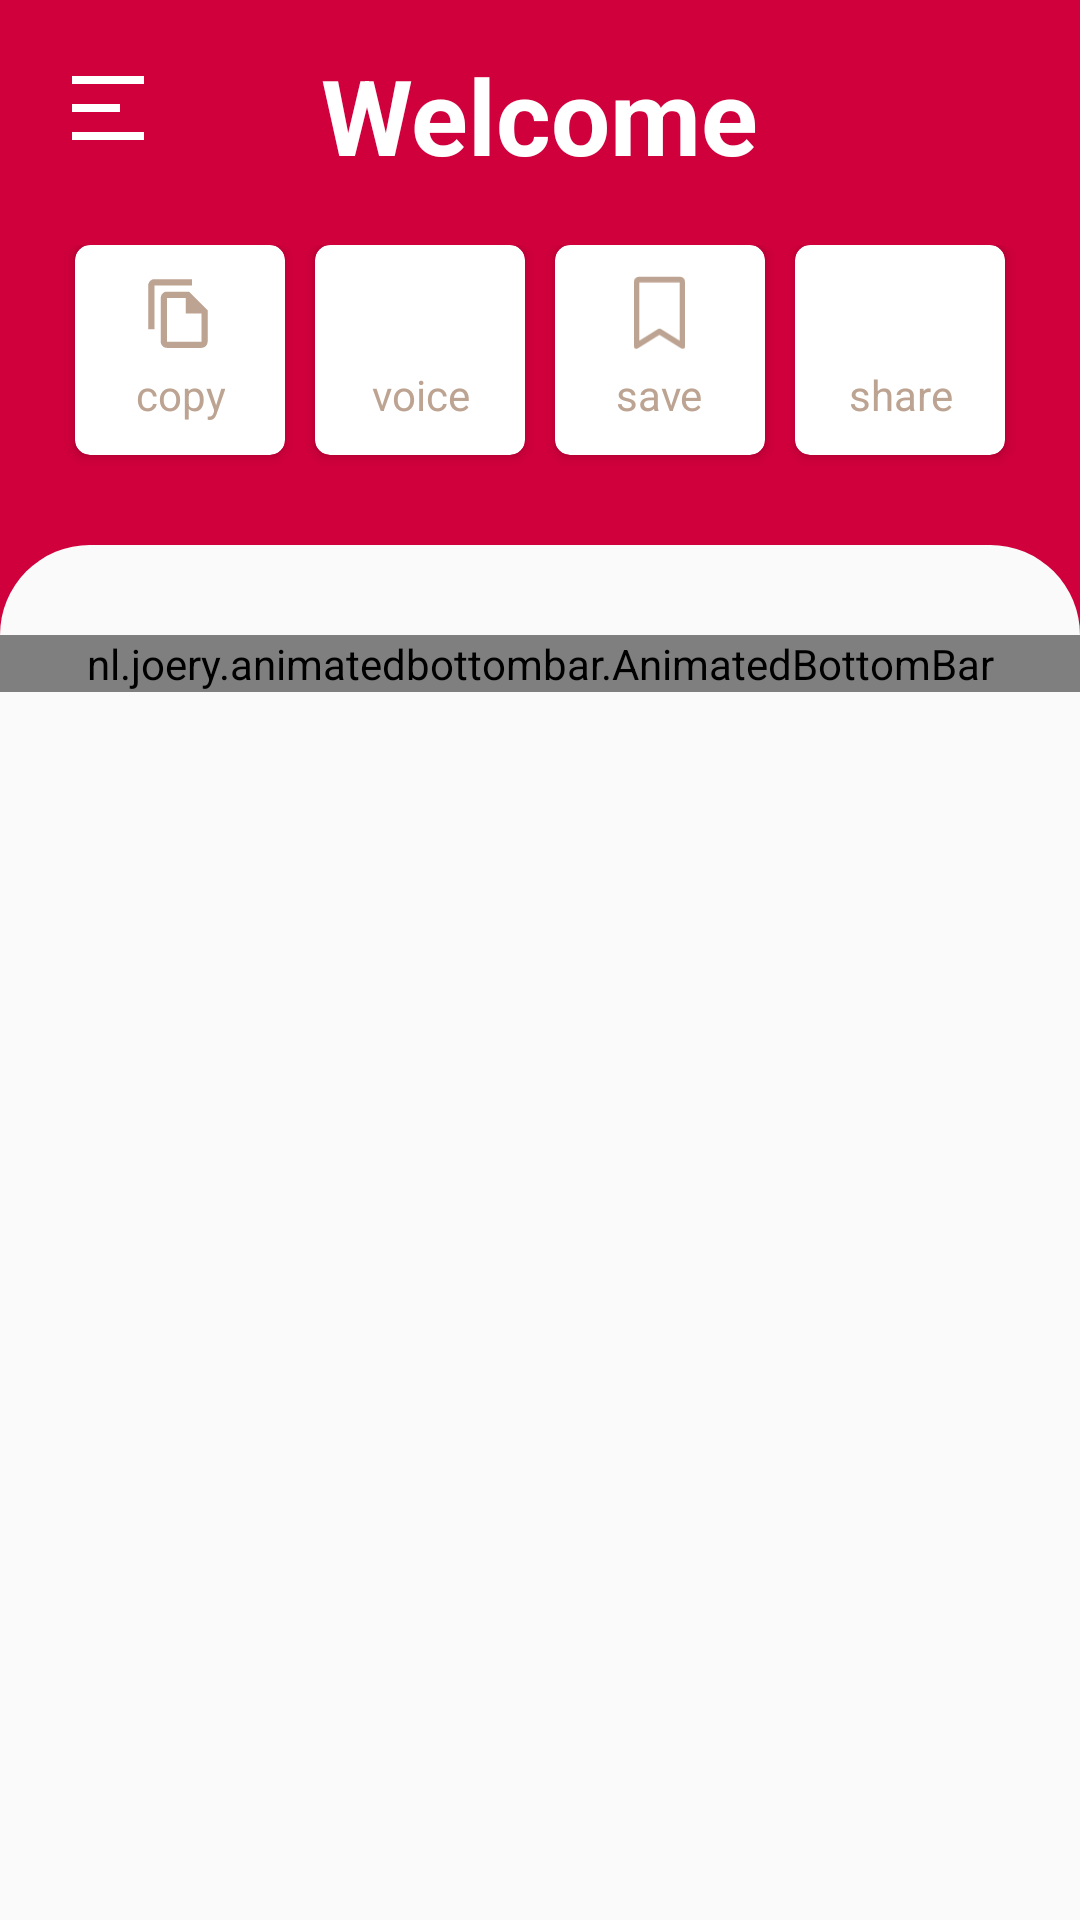

Screen size 1080×1920. Icon name, then its box in pixels as box=[x1, y1, x2, y2]:
menu: box=[72, 76, 144, 140]
